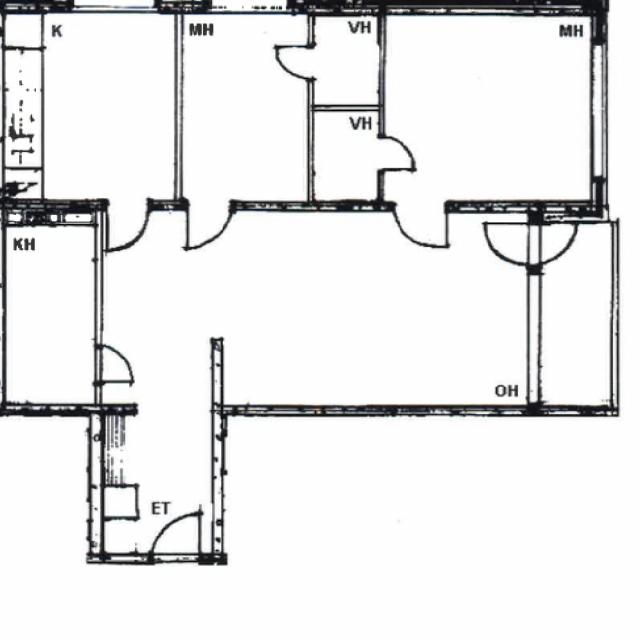door: (393, 201, 447, 261), (152, 509, 200, 565), (187, 201, 231, 254), (529, 223, 583, 264), (486, 223, 540, 264), (106, 201, 148, 251), (95, 346, 140, 381), (378, 137, 420, 170), (272, 46, 314, 78)
